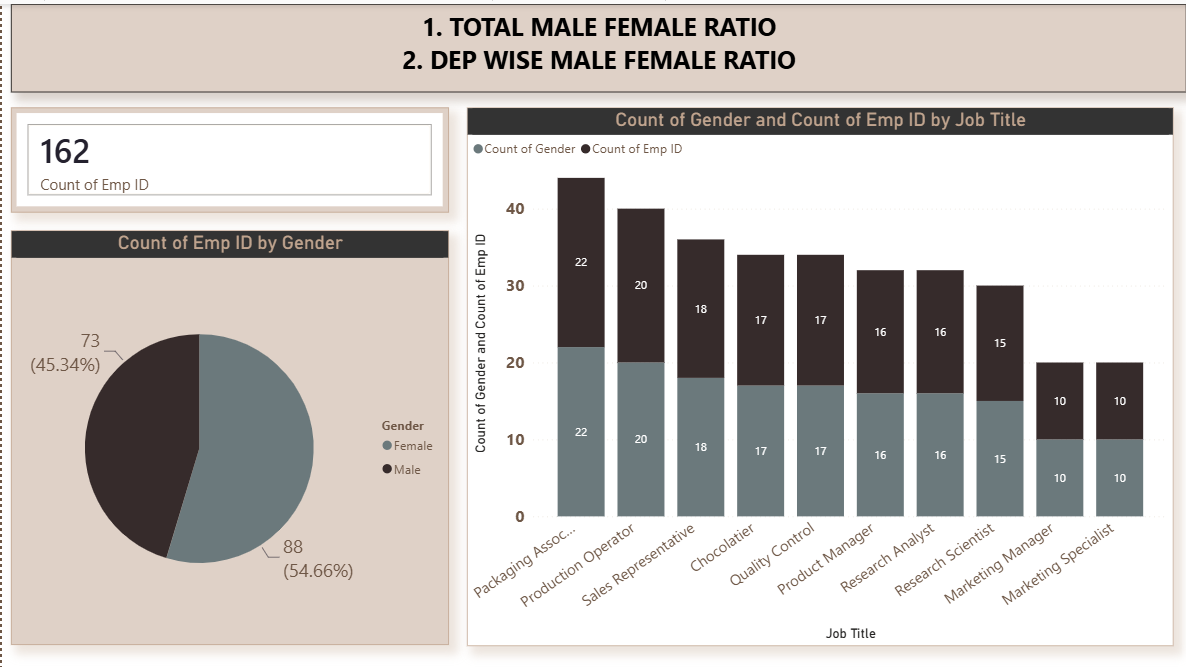

What the dashboard file says about the page in this screenshot:
{"tool":"powerbi","page":{"name":"DEPARTMENT (MALE/FEMALE)","canvas":[1280,720],"ordinal":1},"visuals":[{"type":"textbox","box":[10,0,1270,95],"z":0},{"type":"cardVisual","fields":{"Data":["Count(data.Emp ID)"]},"box":[10.2,111.9,472.9,113.6],"z":1000},{"type":"columnChart","fields":{"Category":["data.Job Title"],"Y":["CountNonNull(data.Gender)","CountNonNull(data.Emp ID)"]},"box":[501.7,111.9,762.7,581.4],"z":2000},{"type":"pieChart","fields":{"Category":["data.Gender"],"Y":["CountNonNull(data.Emp ID)"]},"box":[10,245,472.5,447.5],"z":3000}]}

Visuals, with their boxes in screenshot pixels (x1, y1, x2, y2), scaled from the page's 1280x720 canvas onto the 1186x667 screenshot:
textbox: x1=9, y1=0, x2=1185, y2=88
cardVisual - Count(data.Emp ID): x1=9, y1=104, x2=448, y2=209
columnChart - data.Job Title x CountNonNull(data.Gender): x1=465, y1=104, x2=1172, y2=642
pieChart - data.Gender x CountNonNull(data.Emp ID): x1=9, y1=227, x2=447, y2=642
